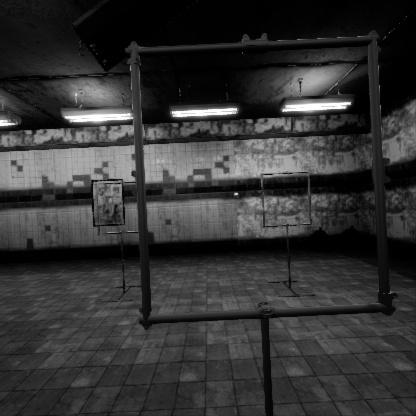gate: (130, 89, 412, 380), (260, 188, 316, 245), (95, 180, 149, 235)
